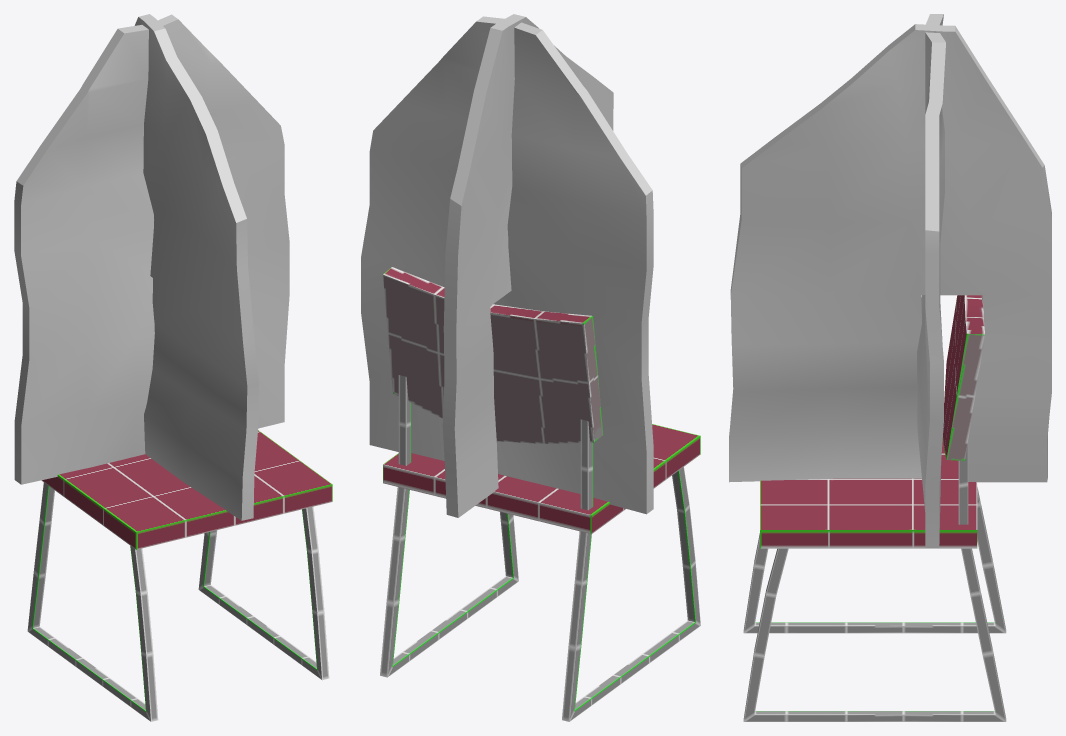
The model's file is CardboardTriangle.fbx.
3 views of the same model, side by side, from view 1: azimuth 30°, elevation 25°; view 2: azimuth 150°, elevation 25°; view 3: azimuth 270°, elevation 25° (orthographic). The views are drawn at different scales.
Parts seen in each view (by area): view 1: CardboardTriangle, Chair; view 2: CardboardTriangle, Chair; view 3: CardboardTriangle, Chair.
Boxes of the visible parts, <box> form: CardboardTriangle: <box>14,14,289,520</box>; Chair: <box>27,430,332,721</box>; CardboardTriangle: <box>361,14,653,517</box>; Chair: <box>380,267,700,721</box>; CardboardTriangle: <box>729,14,1051,547</box>; Chair: <box>743,295,1006,721</box>.
Bounding box in the file's own units: 35.99 × 78.14 × 35.23.
